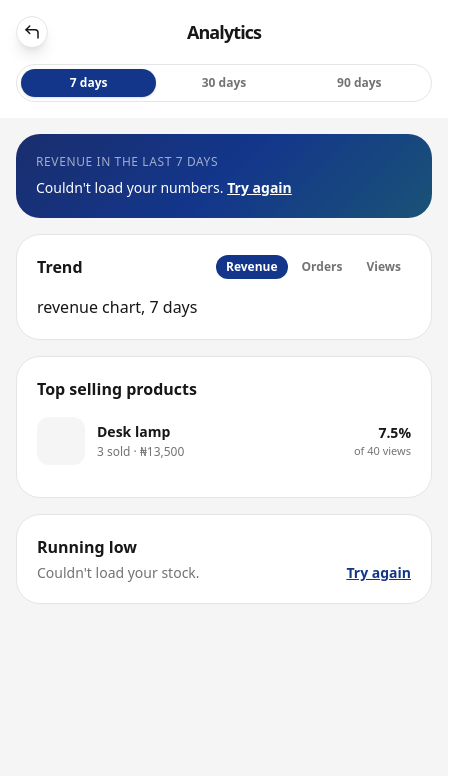
it: Seller AnalyticsPage › offers to try again when the numbers don't load
expect the text "Couldn't load your numbers. Try again" is shown: met, box [36,178,292,198]
expect the text "Couldn't load your stock. Try again" is shown: met, box [37,563,411,583]
Click the button "Try again" next to "Couldn't load your numbers.".
click(260, 188)  # box [227,178,292,198]
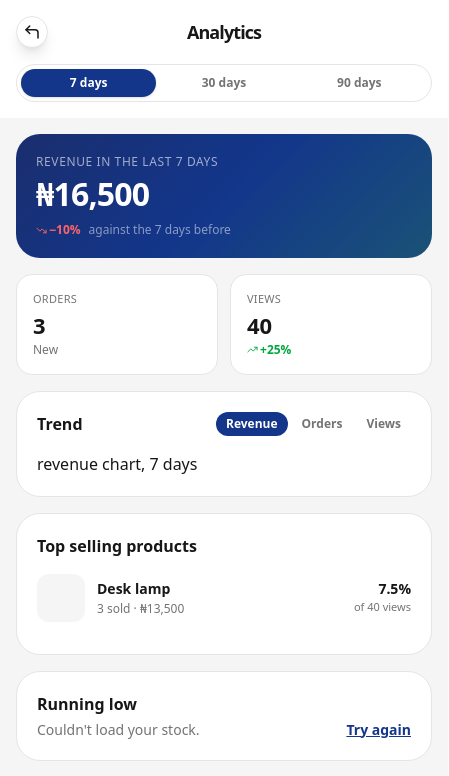
expect the text "₦16,500" is shown: met, box [36,172,149,215]
